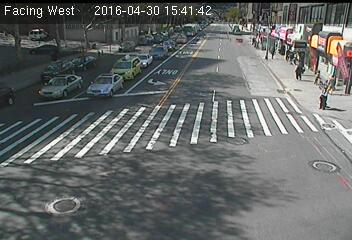neg: (226, 124, 248, 153), (318, 152, 338, 178), (240, 67, 258, 91), (271, 78, 289, 102), (34, 64, 50, 85), (104, 112, 120, 133), (169, 30, 183, 49), (149, 75, 163, 93), (252, 28, 265, 46), (94, 46, 105, 62), (234, 32, 246, 46)
pos: (314, 88, 333, 113), (326, 71, 343, 94), (293, 61, 307, 80), (312, 67, 325, 84), (286, 48, 298, 65)
